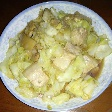juanxincairoupian: (5, 8, 105, 104)
